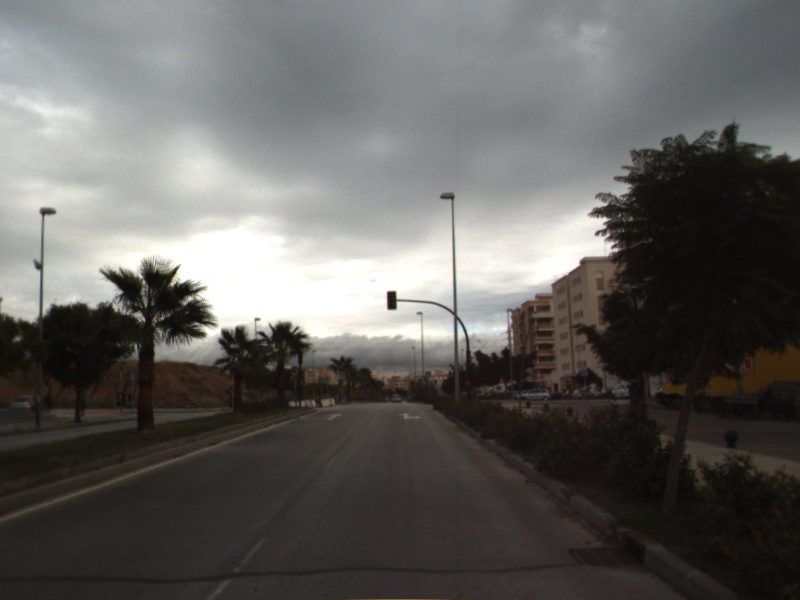STRAIGHT: (325, 411, 344, 422)
STRAIGHT_RIGHT: (398, 410, 423, 421)
